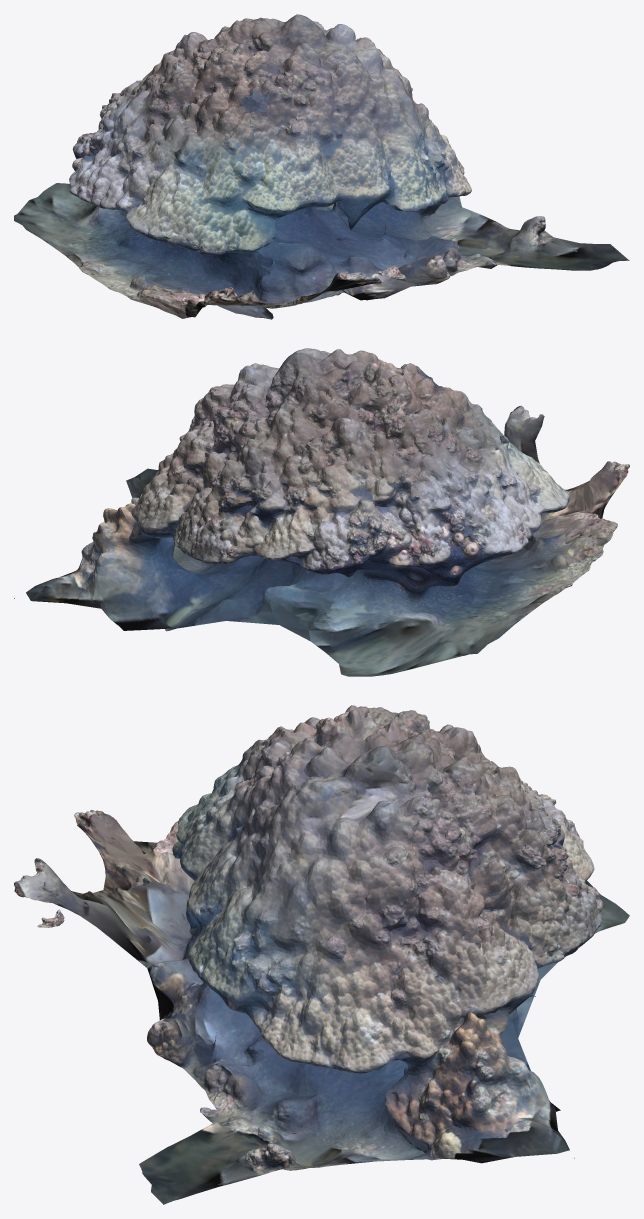
Rendered from indian-ocean-coral.glb.
3 views of the same model, one above another, from view 1: azimuth 30°, elevation 25°; view 2: azimuth 150°, elevation 25°; view 3: azimuth 270°, elevation 25° (orthographic). The views are drawn at different scales.
Parts seen in each view (by area): view 1: indian-ocean-coral; view 2: indian-ocean-coral; view 3: indian-ocean-coral.
Part boxes in pixels (box(x1,y1,x2,y2)): indian-ocean-coral: box(14, 14, 629, 319); indian-ocean-coral: box(14, 348, 629, 676); indian-ocean-coral: box(14, 705, 629, 1204).
Bounding box in the file's own units: 2 × 0.9952 × 1.74.
1 material, 1 textured.
